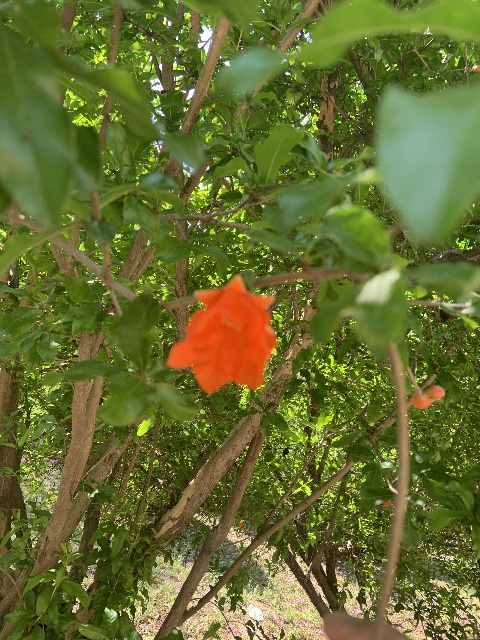bud: (410, 391, 430, 409), (425, 384, 444, 398)
flower: (166, 274, 277, 394), (383, 498, 391, 507), (237, 522, 243, 529)
